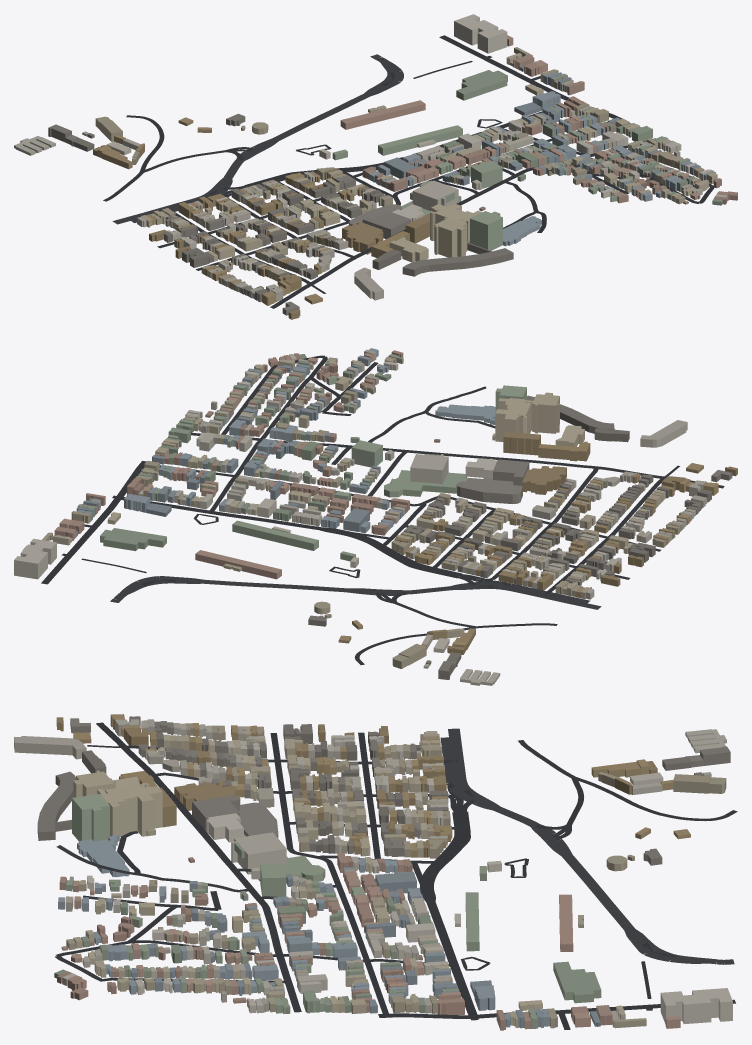
Rendered from tile_7_14.glb.
3 renders of one model, top to bottom at view 1: azimuth 30°, elevation 25°; view 2: azimuth 150°, elevation 25°; view 3: azimuth 270°, elevation 25°, orthographic. The views are drawn at different scales.
Parts seen in each view (by area): view 1: bld_7_14, road_7_14; view 2: bld_7_14, road_7_14; view 3: bld_7_14, road_7_14.
Part boxes in pixels (<box>): bld_7_14: <box>14,14,737,319</box>; road_7_14: <box>103,35,714,308</box>; bld_7_14: <box>14,348,737,685</box>; road_7_14: <box>41,355,724,665</box>; bld_7_14: <box>14,714,732,1030</box>; road_7_14: <box>55,722,737,1029</box>.
Bounding box in the file's own units: 844 × 102 × 855.
